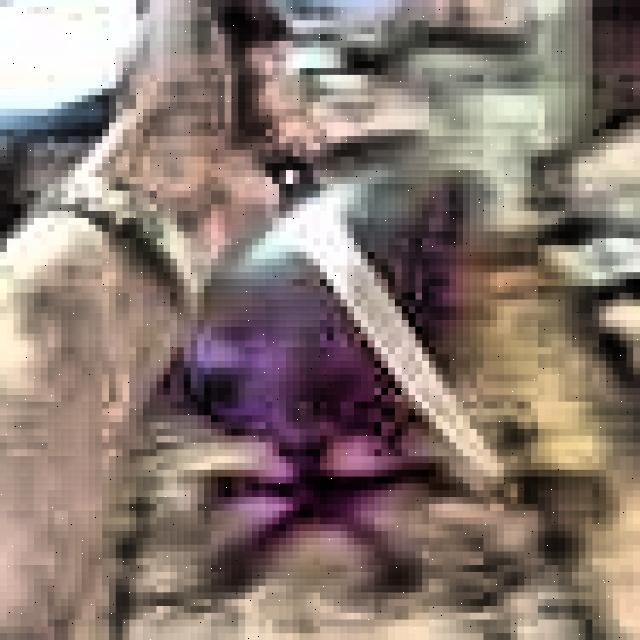knife: (279, 158, 505, 483)
